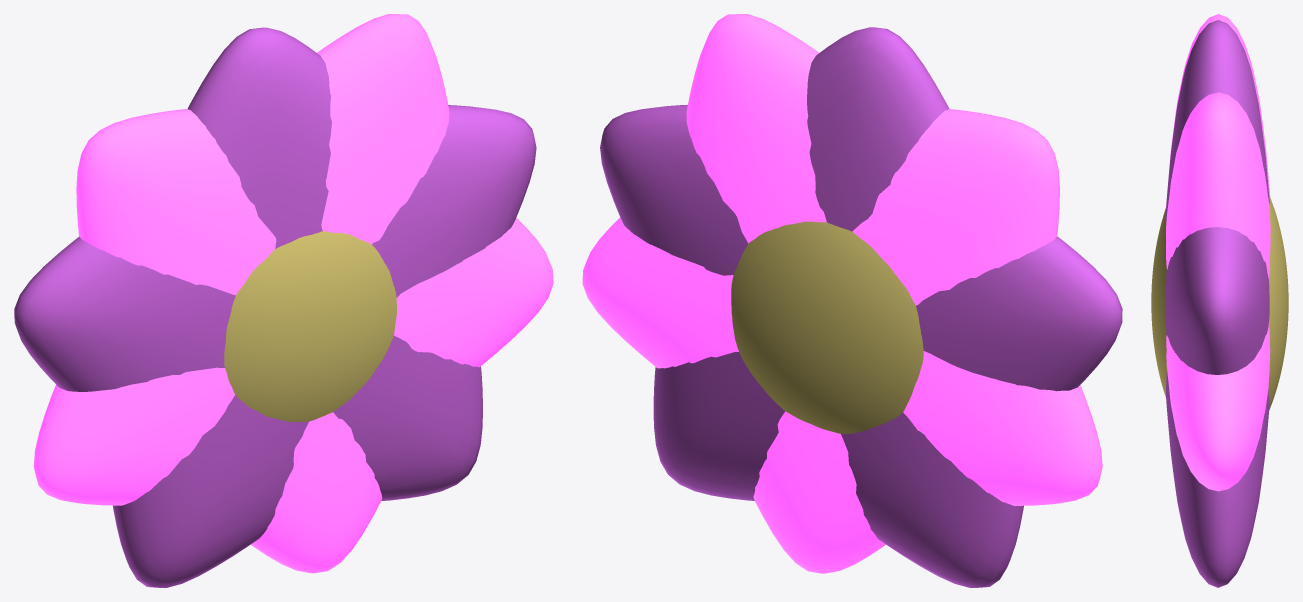
Rendered from flower2.fbx.
3 views of the same model, side by side, from view 1: azimuth 30°, elevation 25°; view 2: azimuth 150°, elevation 25°; view 3: azimuth 270°, elevation 25° (orthographic). The views are drawn at different scales.
Visible parts, largest first — view 1: Circle, Circle.002, Roundcube.005; view 2: Circle.002, Circle, Roundcube.005; view 3: Circle, Circle.002, Roundcube.005.
Part boxes in pixels (<box>): Circle: <box>14,27,536,587</box>; Circle.002: <box>33,14,553,573</box>; Roundcube.005: <box>224,231,396,421</box>; Circle.002: <box>582,14,1102,573</box>; Circle: <box>600,27,1122,587</box>; Roundcube.005: <box>731,221,923,433</box>; Circle: <box>1165,20,1269,587</box>; Circle.002: <box>1166,14,1270,491</box>; Roundcube.005: <box>1151,196,1288,409</box>.
Bounding box in the file's own units: 150 × 149 × 35.14.
